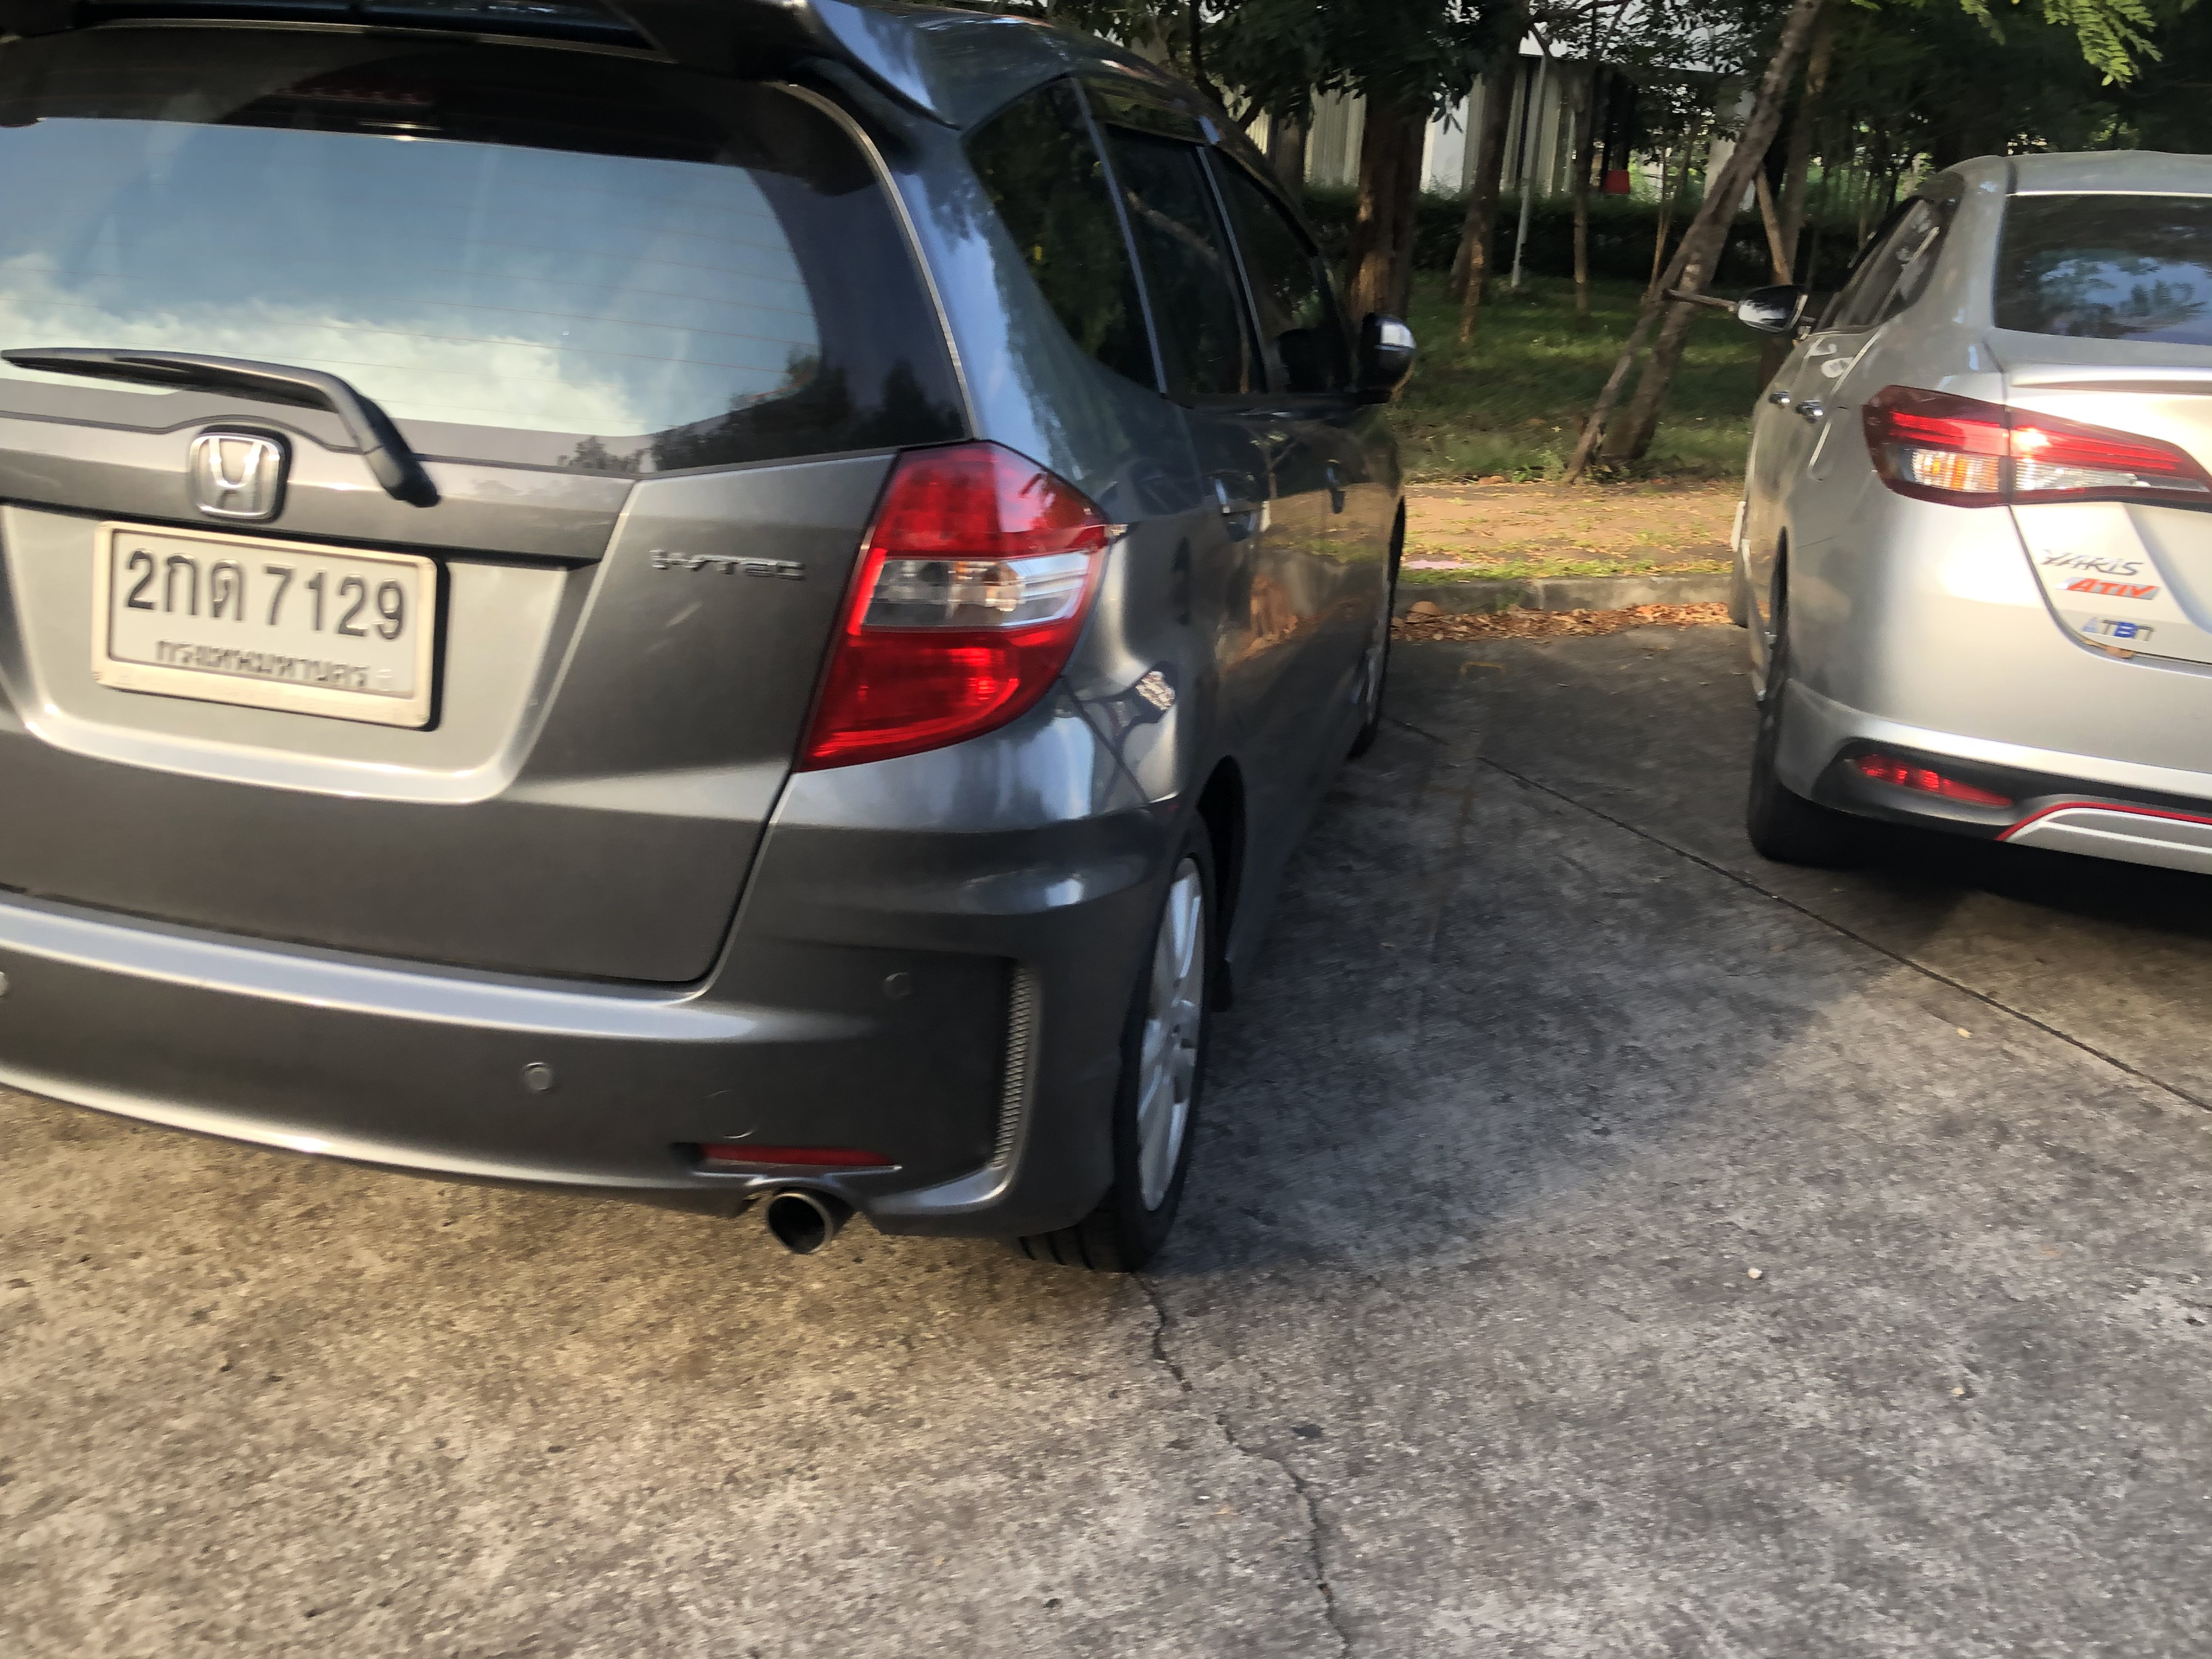in: (105, 521, 418, 699)
out: (89, 493, 453, 730)
